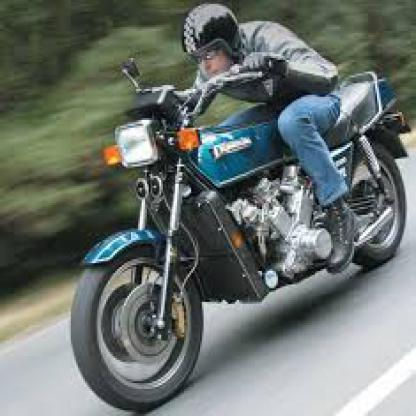Motorcycle: (60, 71, 405, 398)
